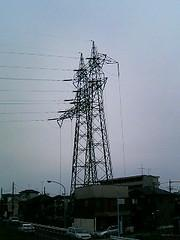power_tower: (56, 35, 122, 193)
